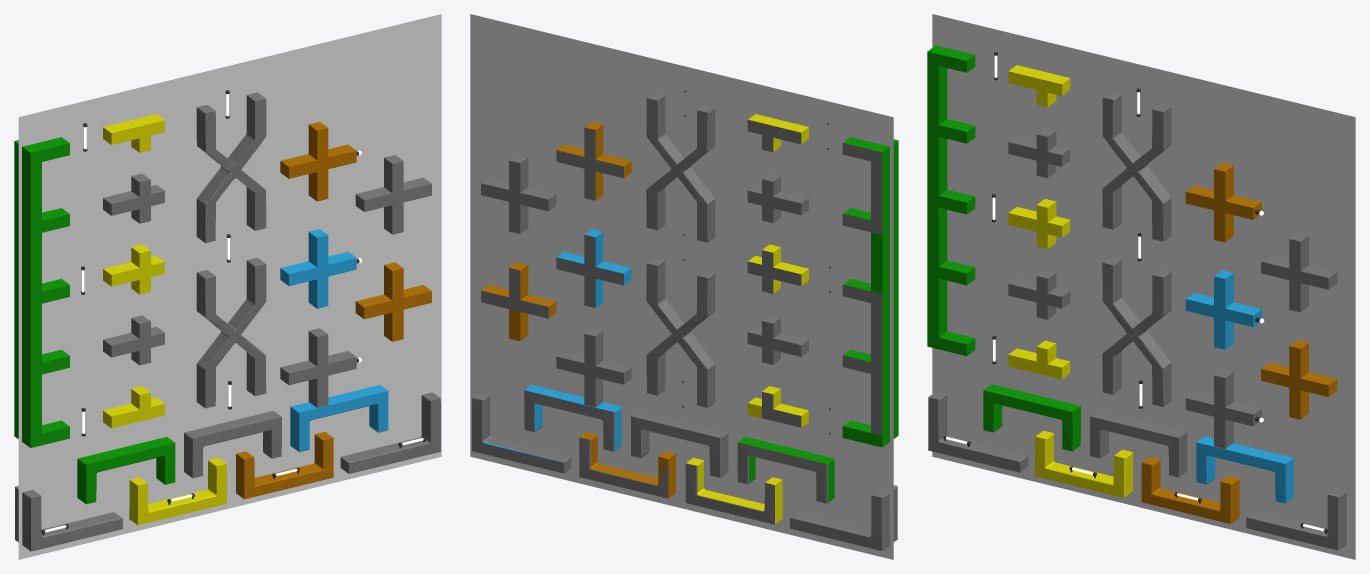
The model's file is SteamPunkLevel.fbx.
The picture shows the model from 3 angles, left to right: view 1: azimuth 30°, elevation 25°; view 2: azimuth 150°, elevation 25°; view 3: azimuth 330°, elevation 25°; orthographic projection.
Parts seen in each view (by area): view 1: Plane, Map; view 2: Plane, Map; view 3: Plane, Map.
Boxes of the visible parts, left/top/right/bottom form: Plane: left=18, top=14, right=441, bottom=559; Map: left=14, top=92, right=440, bottom=551; Plane: left=470, top=14, right=893, bottom=559; Map: left=472, top=92, right=898, bottom=550; Plane: left=932, top=14, right=1355, bottom=559; Map: left=927, top=45, right=1346, bottom=550.
Bounding box in the file's own units: 7500 × 7500 × 500.
